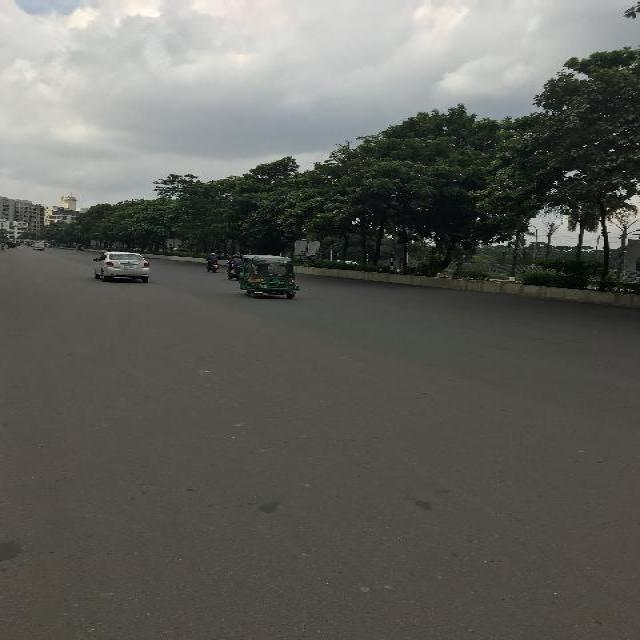bus: (75, 243, 81, 249)
car: (92, 251, 149, 281)
motorcycle: (239, 252, 300, 297), (225, 253, 240, 280), (205, 250, 219, 273), (5, 241, 16, 248)
truck: (32, 241, 43, 249)
